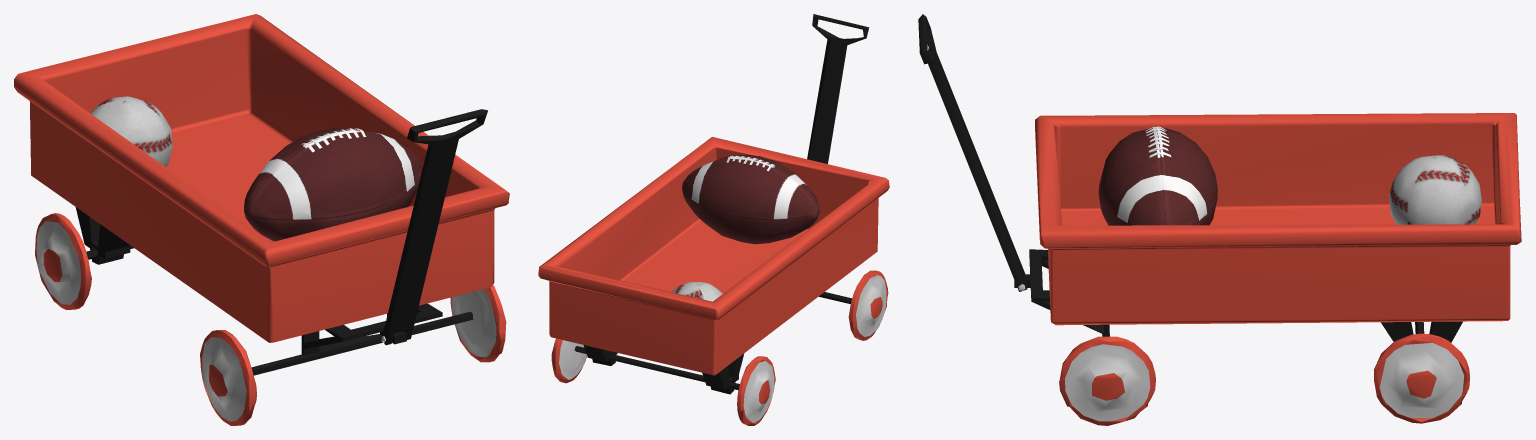
The model's file is carrellino_LOD2.fbx.
3 views of the same model, side by side, from view 1: azimuth 30°, elevation 25°; view 2: azimuth 150°, elevation 25°; view 3: azimuth 270°, elevation 25° (orthographic). The views are drawn at different scales.
Visible parts, largest first — view 1: Back wheels, Football, Volleyball; view 2: Back wheels, Football, Volleyball; view 3: Back wheels, Football, Volleyball.
Part boxes in pixels (bbox=[...]): Back wheels: bbox=[14, 14, 509, 425]; Football: bbox=[244, 128, 422, 241]; Volleyball: bbox=[90, 96, 172, 166]; Back wheels: bbox=[538, 14, 889, 425]; Football: bbox=[682, 154, 819, 244]; Volleyball: bbox=[672, 282, 722, 301]; Back wheels: bbox=[918, 14, 1521, 425]; Football: bbox=[1098, 126, 1217, 225]; Volleyball: bbox=[1389, 155, 1481, 224].
Size of the model in its own units: 255 by 295 by 483.
Materials: 6 (2 with a texture image).
